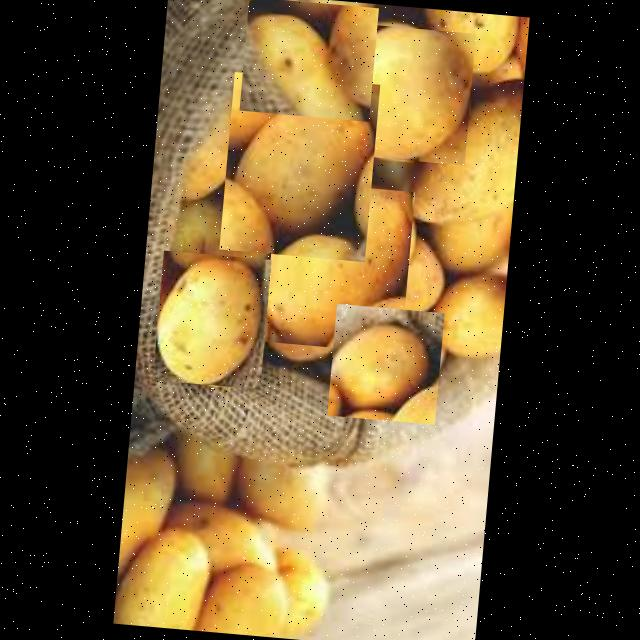Potato: (218, 71, 379, 262), (262, 180, 414, 353), (318, 21, 474, 165), (238, 0, 377, 121), (151, 250, 270, 389), (326, 304, 443, 424)
